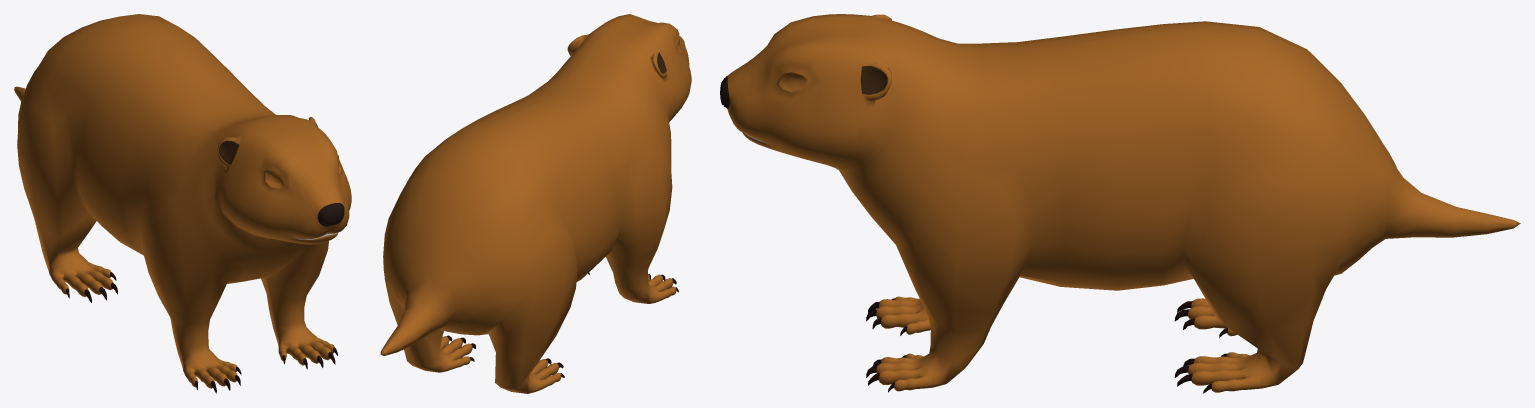
Rendered from praire_dog_praire_dog.obj.
The picture shows the model from 3 angles, left to right: view 1: azimuth 30°, elevation 25°; view 2: azimuth 150°, elevation 25°; view 3: azimuth 270°, elevation 25°; orthographic projection. The views are drawn at different scales.
Parts seen in each view (by area): view 1: praire_dog; view 2: praire_dog; view 3: praire_dog.
Boxes of the visible parts, x1,y1,x2,y2 form: praire_dog: [14, 14, 351, 393]; praire_dog: [380, 14, 691, 393]; praire_dog: [720, 14, 1520, 393].
Size of the model in its own units: 0.1771 by 0.238 by 0.538.
